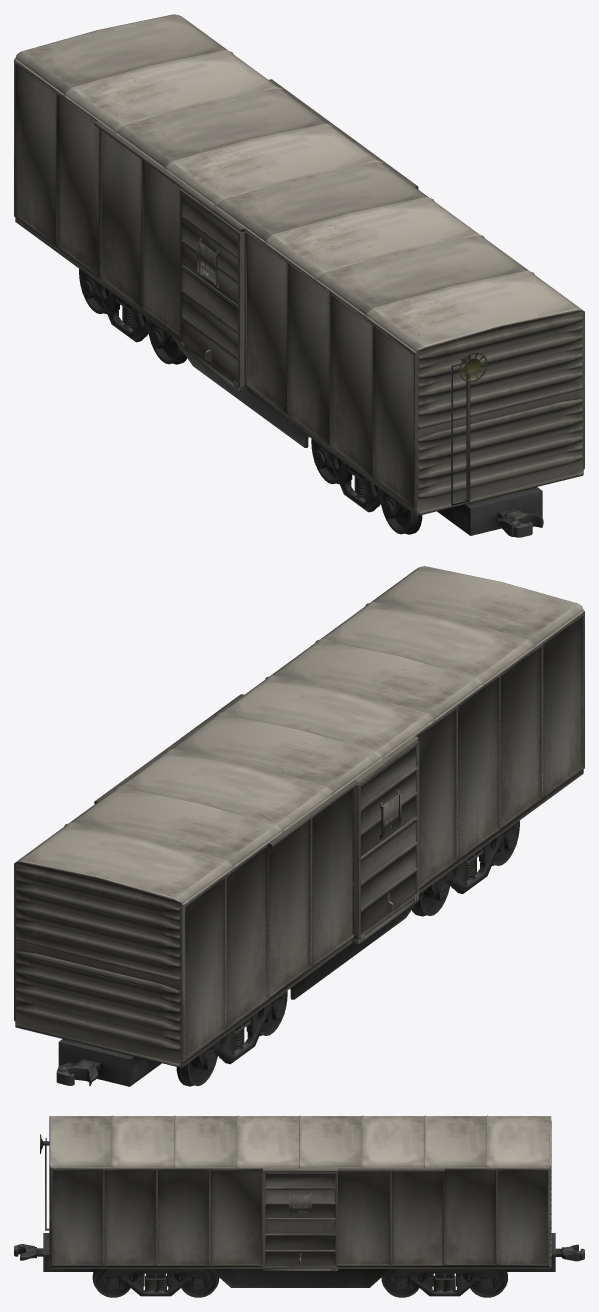
3 views of the same model, one above another, from view 1: azimuth 30°, elevation 25°; view 2: azimuth 150°, elevation 25°; view 3: azimuth 270°, elevation 25° (orthographic). The views are drawn at different scales.
Parts seen in each view (by area): view 1: Object_train_box.jpg.001; view 2: Object_train_box.jpg.001; view 3: Object_train_box.jpg.001.
Boxes of the visible parts, x1,y1,x2,y2 form: Object_train_box.jpg.001: (14, 14, 584, 537); Object_train_box.jpg.001: (14, 566, 584, 1086); Object_train_box.jpg.001: (14, 1115, 584, 1297).
Size of the model in its own units: 3 by 3.59 by 12.74.
Materials: 2 (2 with a texture image).
